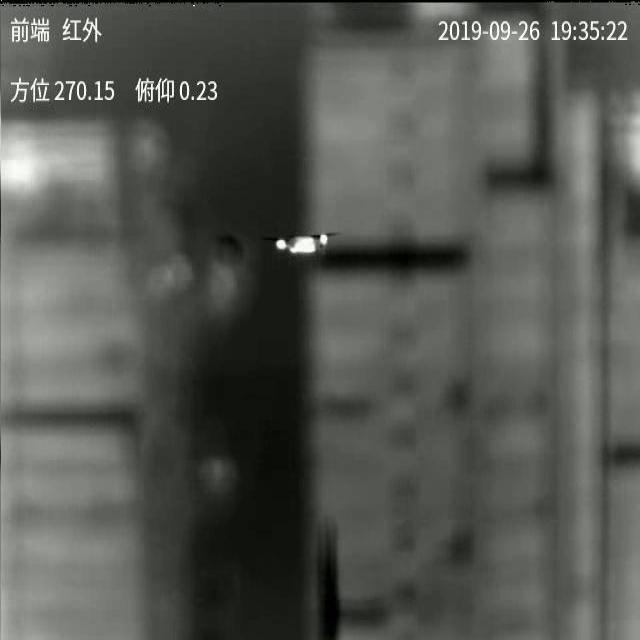drone: (264, 232, 339, 254)
